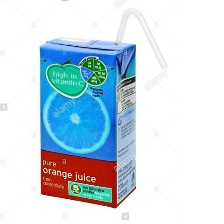carton: (35, 33, 147, 209)
drinking_straw: (111, 4, 168, 71)
